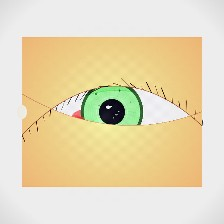hemorrhage_spot: (63, 94, 122, 141)
